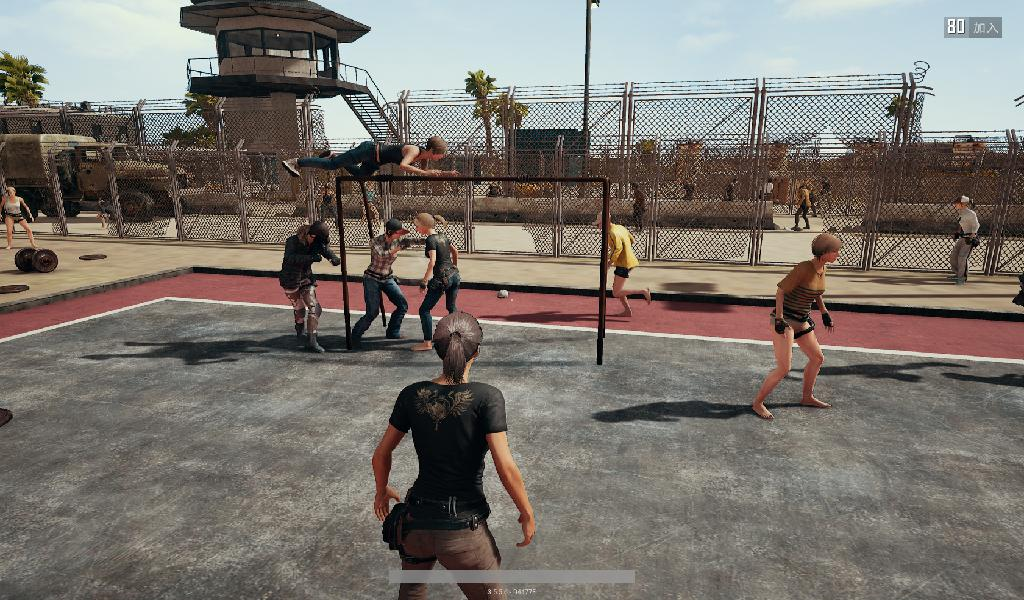Target Person: (371, 311, 538, 600), (751, 234, 844, 423), (278, 221, 342, 354), (410, 213, 469, 354), (282, 136, 463, 181), (346, 216, 408, 339), (589, 210, 652, 320), (947, 191, 981, 286), (316, 185, 344, 232), (792, 180, 811, 235), (629, 179, 647, 237), (677, 170, 697, 217), (816, 173, 832, 218), (724, 174, 738, 213)
